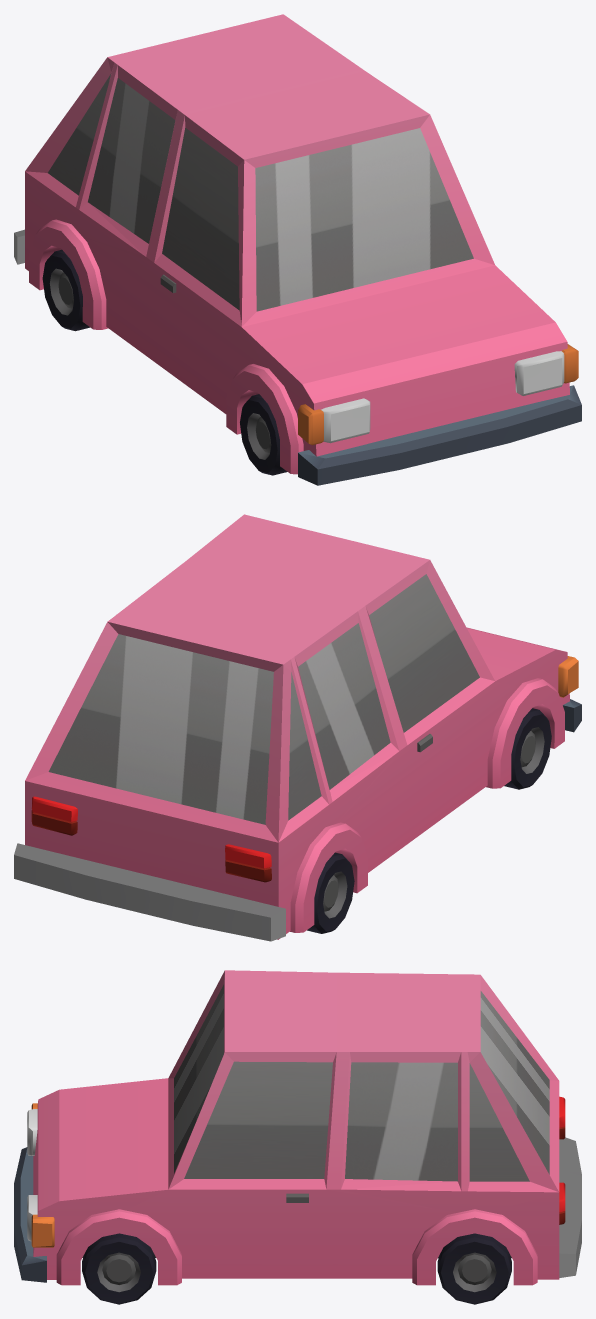
Rendered from Car_1_9.glb.
3 views of the same model, one above another, from view 1: azimuth 30°, elevation 25°; view 2: azimuth 150°, elevation 25°; view 3: azimuth 270°, elevation 25° (orthographic). The views are drawn at different scales.
Parts seen in each view (by area): view 1: Car_1_9, Wheel_Br, Wheel_Fr; view 2: Car_1_9, Wheel_Fr, Wheel_Br; view 3: Car_1_9, Wheel_Fl, Wheel_Bl.
Part boxes in pixels (x1,y1,x2,y2): Car_1_9: (14,14,581,485); Wheel_Br: (42,249,89,331); Wheel_Fr: (240,394,287,475); Car_1_9: (14,514,581,941); Wheel_Fr: (504,708,551,789); Wheel_Br: (307,852,354,933); Car_1_9: (14,970,581,1285); Wheel_Fl: (82,1233,156,1304); Wheel_Bl: (437,1233,511,1304).
Bounding box in the file's own units: 1.05 × 0.9433 × 2.07.
4 materials, 4 textured.
